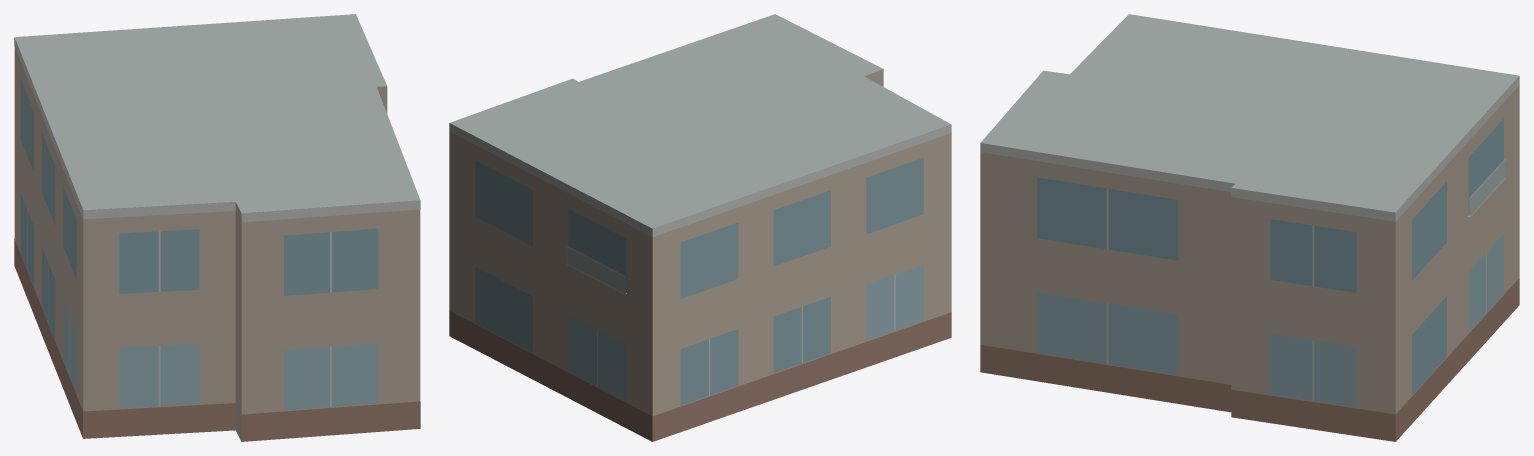
File: survey-upis-32460659.glb
3 renders of one model, left to right at view 1: azimuth 30°, elevation 25°; view 2: azimuth 150°, elevation 25°; view 3: azimuth 270°, elevation 25°, orthographic. The views are drawn at different scales.
Visible parts, largest first — view 1: survey-upis-32460659.tmp; view 2: survey-upis-32460659.tmp; view 3: survey-upis-32460659.tmp.
Boxes of the visible parts, x1,y1,x2,y2 form: survey-upis-32460659.tmp: [14, 14, 420, 441]; survey-upis-32460659.tmp: [449, 14, 951, 441]; survey-upis-32460659.tmp: [980, 14, 1519, 441].
Bounding box in the file's own units: 11.34 × 6.1 × 13.01.
